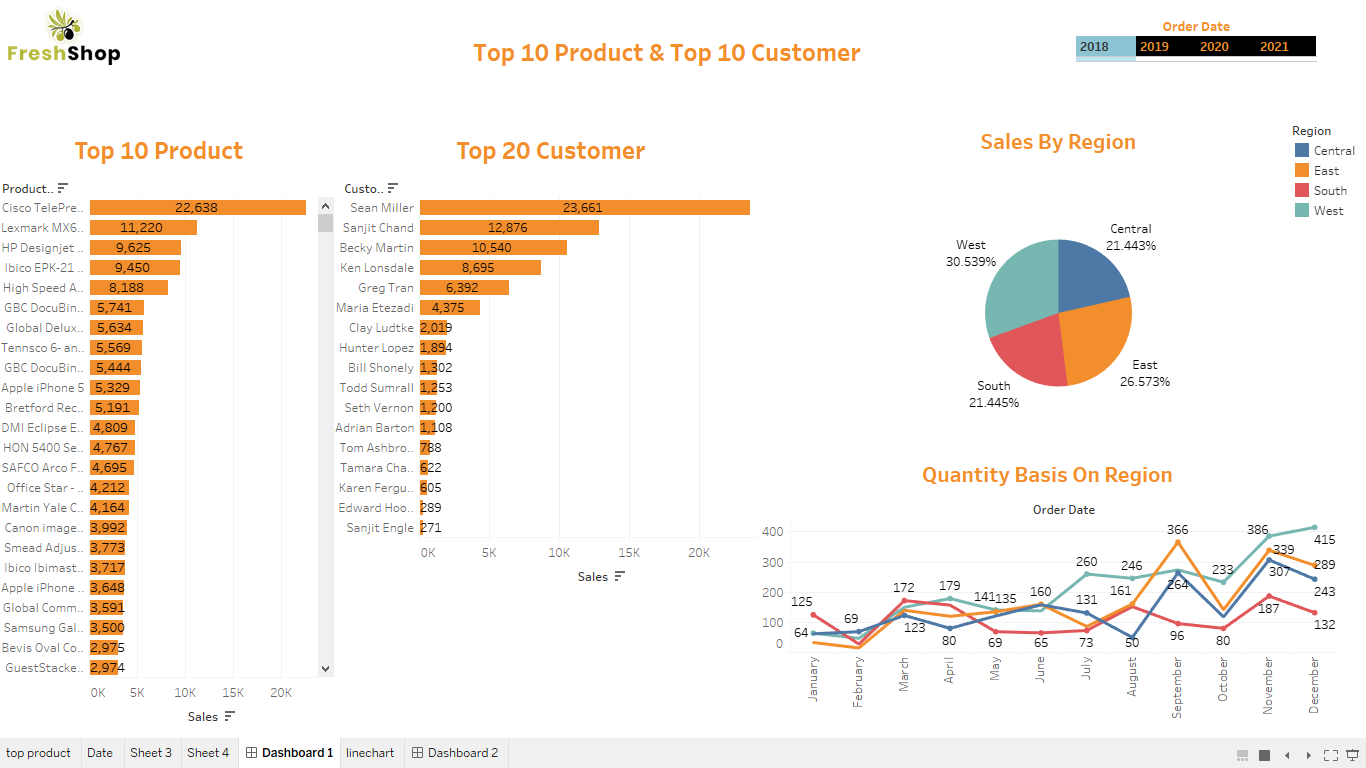

The dashboard page shown, as its layout file describes it:
{"tool":"tableau","page":{"name":"Dashboard 1","canvas":[1000,1000],"units":"permille","ordinal":0},"visuals":[{"type":"worksheet","param":"Image/logo.png","box":[2.2,5.1,90.3,82.8]},{"type":"worksheet","box":[332.8,12.2,310.7,114.6]},{"type":"worksheet","title":"Date ","mark":"Automatic","cols":["Order Date"],"box":[788.1,22,209.7,96.3]},{"type":"worksheet","title":"Sheet 4","mark":"Pie","box":[603.7,165.5,341.8,457.8]},{"type":"worksheet","title":"top product","mark":"Automatic","rows":["Product Name"],"cols":["Sales"],"box":[0.8,175.3,243.4,817.7]},{"type":"worksheet","title":"Sheet 3","mark":"Automatic","rows":["Customer Name"],"cols":["Sales"],"box":[245.1,175.3,316.4,821.2]},{"type":"worksheet","title":"linechart","mark":"Automatic","rows":["Quantity"],"cols":["Order Date"],"box":[555.2,616.6,423.9,375]}]}

Visuals, with their boxes on the dashboard's canvas, which has no fixed pixel size, in thousandths of its width and height (x1, y1, x2, y2). These are canvas units, not pixel positions in the 1366x768 screenshot, which may show the page scaled, cropped or inside an application window:
worksheet: Rect(2, 5, 92, 88)
worksheet: Rect(333, 12, 644, 127)
"Date " worksheet: Rect(788, 22, 998, 118)
"Sheet 4" worksheet (Pie marks): Rect(604, 166, 946, 623)
"top product" worksheet: Rect(1, 175, 244, 993)
"Sheet 3" worksheet: Rect(245, 175, 562, 996)
"linechart" worksheet: Rect(555, 617, 979, 992)
